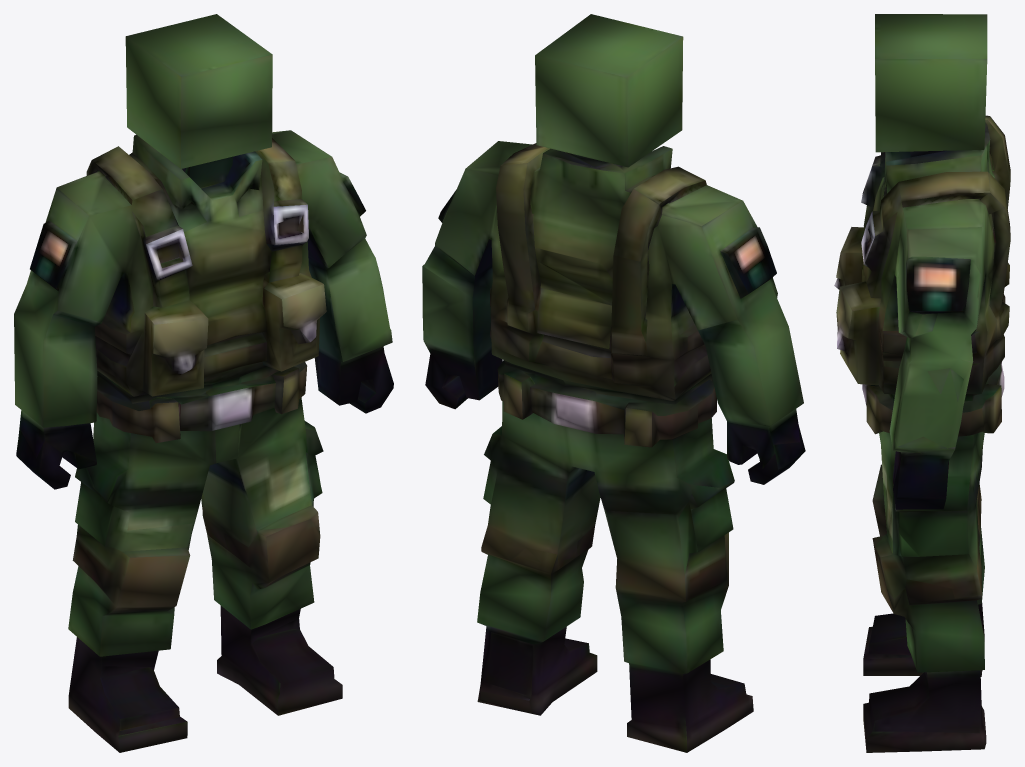
The model's file is costume-military-v2.glb.
3 views of the same model, side by side, from view 1: azimuth 30°, elevation 25°; view 2: azimuth 150°, elevation 25°; view 3: azimuth 270°, elevation 25° (orthographic).
Visible parts, largest first — view 1: material.001; view 2: material.001; view 3: material.001.
Boxes of the visible parts, left/top/right/bottom form: material.001: left=14, top=14, right=393, bottom=752; material.001: left=422, top=14, right=805, bottom=752; material.001: left=834, top=14, right=1010, bottom=752.
Size of the model in its own units: 0.6324 by 1.12 by 0.2701.
1 material, 1 textured.
